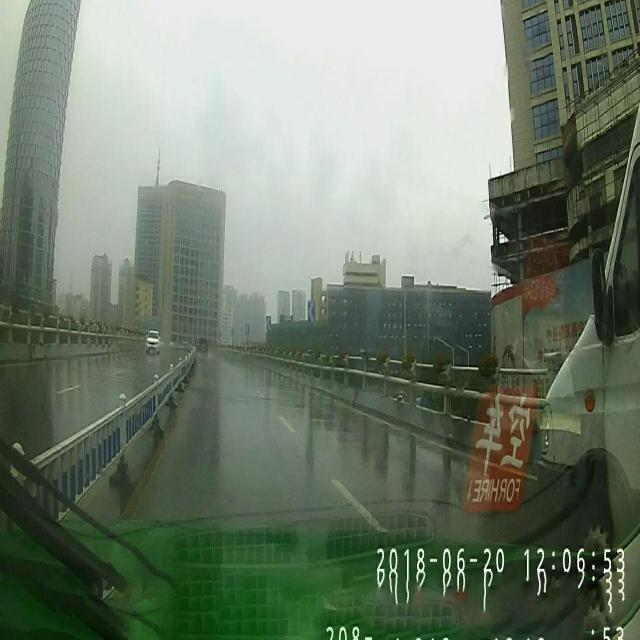car: (145, 329, 159, 358)
